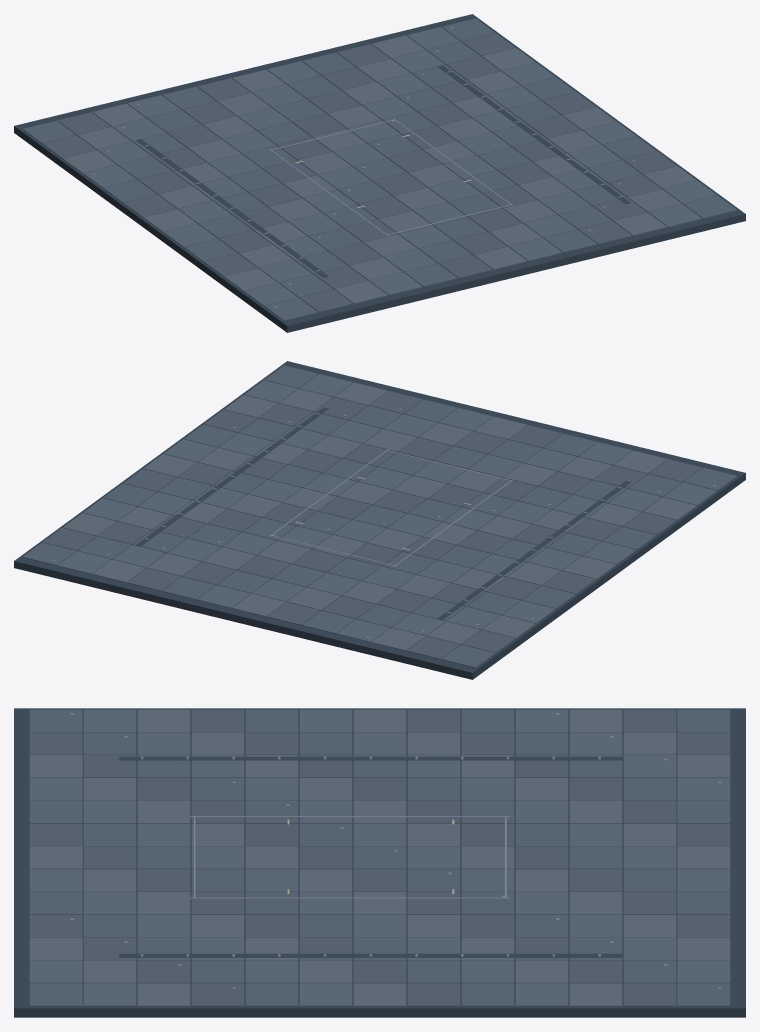
File: hangar-floor.glb
3 views of the same model, one above another, from view 1: azimuth 30°, elevation 25°; view 2: azimuth 150°, elevation 25°; view 3: azimuth 270°, elevation 25° (orthographic). The views are drawn at different scales.
Parts seen in each view (by area): view 1: 000_foundation, 213_drain, 201_drain, 160_floor_plate, 045_floor_plate, 060_floor_plate, 014_floor_plate, 030_floor_plate, 074_floor_plate, 116_floor_plate, 130_floor_plate, 088_floor_plate (+160 smaller); view 2: 000_foundation, 213_drain, 201_drain, 146_floor_plate, 031_floor_plate, 001_floor_plate, 016_floor_plate, 046_floor_plate, 061_floor_plate, 103_floor_plate, 117_floor_plate, 131_floor_plate (+160 smaller); view 3: 000_foundation, 213_drain, 201_drain, 061_floor_plate, 074_floor_plate, 089_floor_plate, 102_floor_plate, 161_floor_plate, 175_floor_plate, 190_floor_plate, 001_floor_plate, 062_floor_plate (+162 smaller).
Part boxes in pixels (x1,y1,x2,y2): 000_foundation: (14,14,745,332); 213_drain: (438,65,630,203); 201_drain: (136,139,328,277); 160_floor_plate: (613,212,667,235); 045_floor_plate: (334,280,388,303); 060_floor_plate: (369,272,422,295); 014_floor_plate: (264,297,318,320); 030_floor_plate: (299,289,352,312); 074_floor_plate: (404,263,457,286); 116_floor_plate: (509,238,562,261); 130_floor_plate: (544,229,597,252); 088_floor_plate: (439,255,492,278); 000_foundation: (14,361,745,679); 213_drain: (136,407,328,545); 201_drain: (438,481,630,619); 146_floor_plate: (92,559,146,582); 031_floor_plate: (371,627,425,650); 001_floor_plate: (441,644,495,667); 016_floor_plate: (407,636,460,659); 046_floor_plate: (337,619,390,642); 061_floor_plate: (302,610,355,633); 103_floor_plate: (197,585,250,608); 117_floor_plate: (162,576,215,599); 131_floor_plate: (127,568,181,591); 000_foundation: (14,708,745,1017); 213_drain: (119,953,622,957); 201_drain: (119,756,622,760); 061_floor_plate: (677,800,730,823); 074_floor_plate: (29,800,82,823); 089_floor_plate: (677,846,730,869); 102_floor_plate: (29,846,82,869); 161_floor_plate: (677,960,730,983); 175_floor_plate: (29,960,82,983); 190_floor_plate: (29,983,82,1006); 001_floor_plate: (677,709,730,732); 062_floor_plate: (623,800,676,823).
Bounding box in the file's own units: 31 × 0.5305 × 32.
